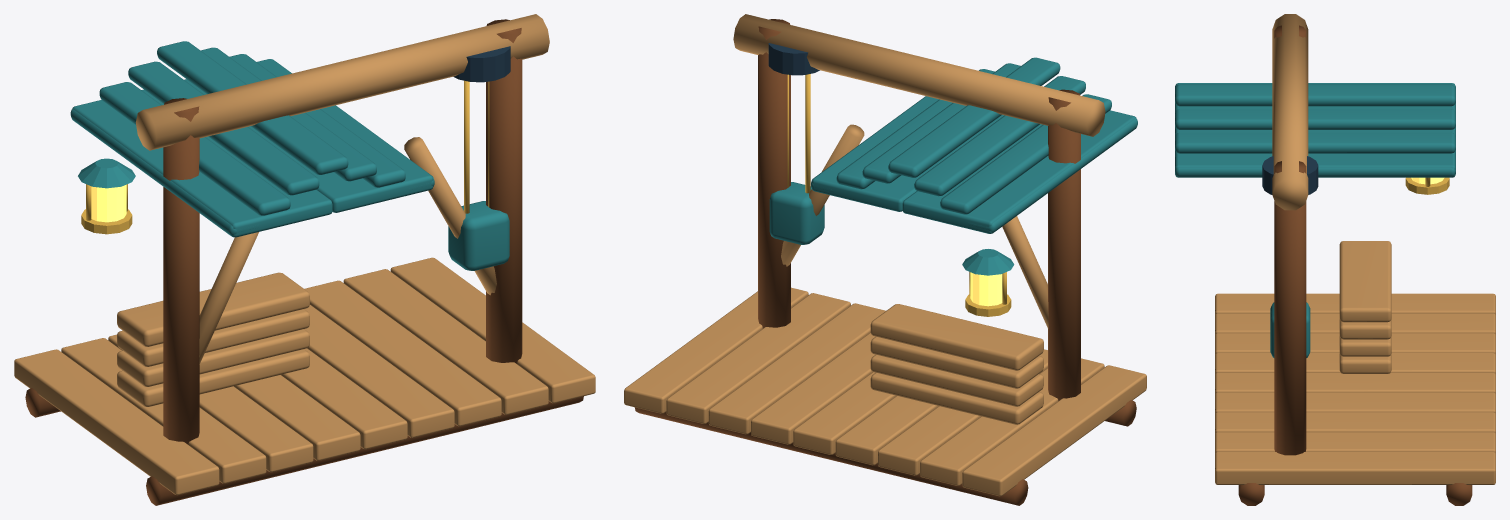
The model's file is bridge-workshop.glb.
3 renders of one model, left to right at view 1: azimuth 30°, elevation 25°; view 2: azimuth 150°, elevation 25°; view 3: azimuth 270°, elevation 25°, orthographic. The views are drawn at different scales.
Visible parts, largest first — view 1: Structure, AnimatedDetail; view 2: Structure, AnimatedDetail; view 3: Structure, AnimatedDetail.
Part boxes in pixels (<box>): Structure: <box>14,14,595,505</box>; AnimatedDetail: <box>448,201,509,270</box>; Structure: <box>624,14,1146,505</box>; AnimatedDetail: <box>769,182,824,244</box>; Structure: <box>1175,14,1495,505</box>; AnimatedDetail: <box>1270,302,1310,357</box>.
Bounding box in the file's own units: 4.2 × 3.52 × 3.2.
